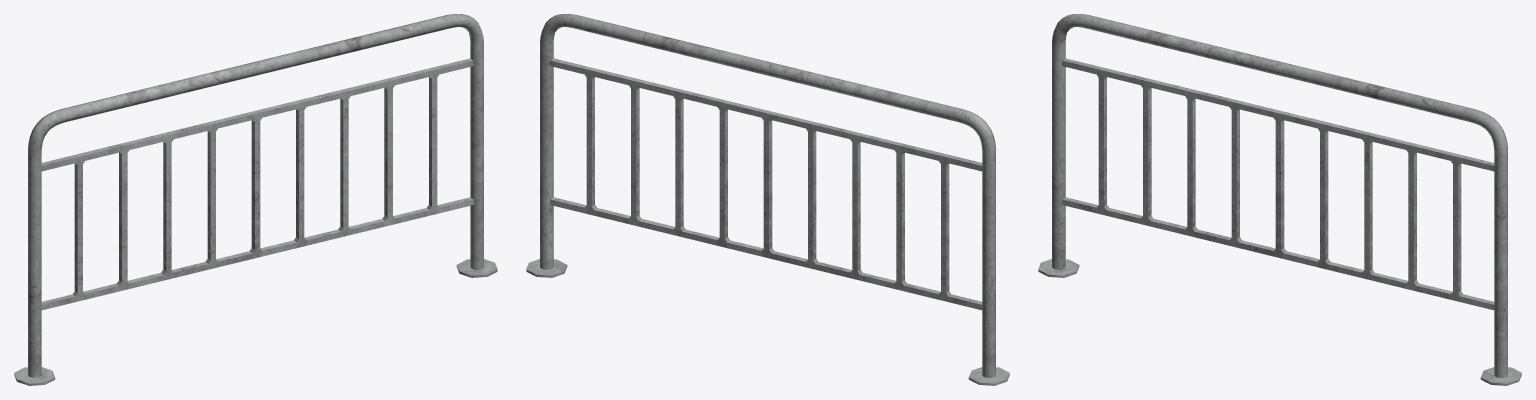
File: Fence.fbx
3 views of the same model, side by side, from view 1: azimuth 30°, elevation 25°; view 2: azimuth 150°, elevation 25°; view 3: azimuth 330°, elevation 25° (orthographic).
Parts seen in each view (by area): view 1: Fence; view 2: Fence; view 3: Fence.
Part boxes in pixels (x1,y1,x2,y2): Fence: (14, 14, 497, 385); Fence: (526, 14, 1009, 385); Fence: (1038, 14, 1521, 385).
Size of the model in its own units: 2.59 by 1.35 by 0.1937.
Materials: 1 (1 with a texture image).
